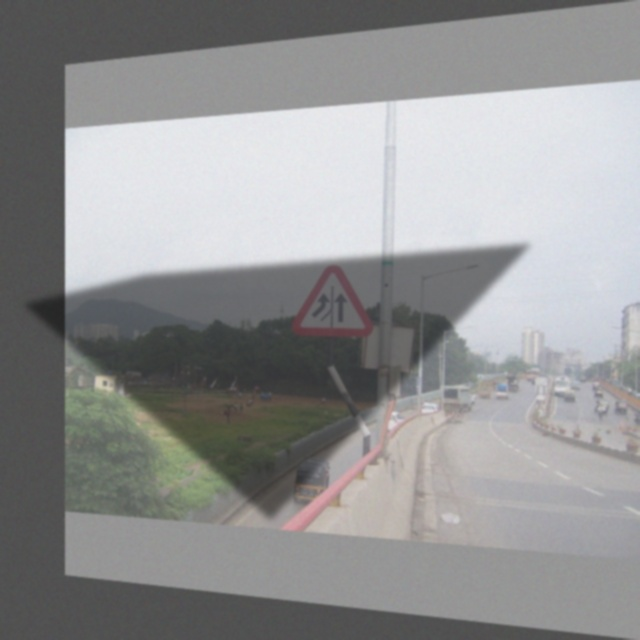Merge_Traffic_Ahead: (288, 255, 370, 344)
